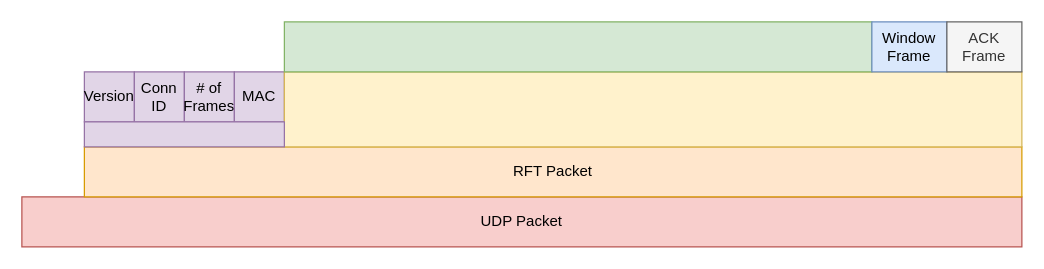
The diagram is 1044 pixels wide and 269 high, and some of its shapes have lost their labels. Each missing label, with the centre of its shape:
"Data Frame" belongs at point 577,46.
"Header" belongs at point 183,134.
"Payload" belongs at point 652,109.
